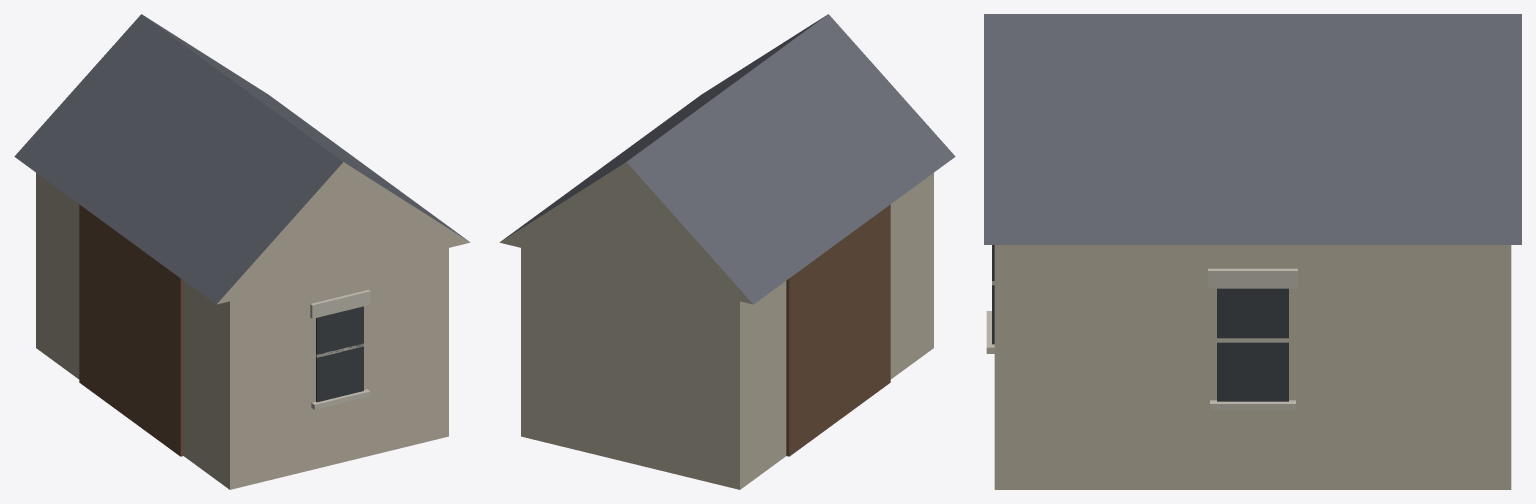
Rendered from house_1913_indiana_shed__draft_1904.glb.
The picture shows the model from 3 angles, left to right: view 1: azimuth 30°, elevation 25°; view 2: azimuth 150°, elevation 25°; view 3: azimuth 270°, elevation 25°; orthographic projection. The views are drawn at different scales.
Parts seen in each view (by area): view 1: house_1913_indiana_shed__draft_1904; view 2: house_1913_indiana_shed__draft_1904; view 3: house_1913_indiana_shed__draft_1904.
Boxes of the visible parts, x1,y1,x2,y2 form: house_1913_indiana_shed__draft_1904: (14,14,470,489); house_1913_indiana_shed__draft_1904: (499,14,955,489); house_1913_indiana_shed__draft_1904: (984,14,1521,489).
Size of the model in its own units: 4.35 by 4.97 by 5.99.
